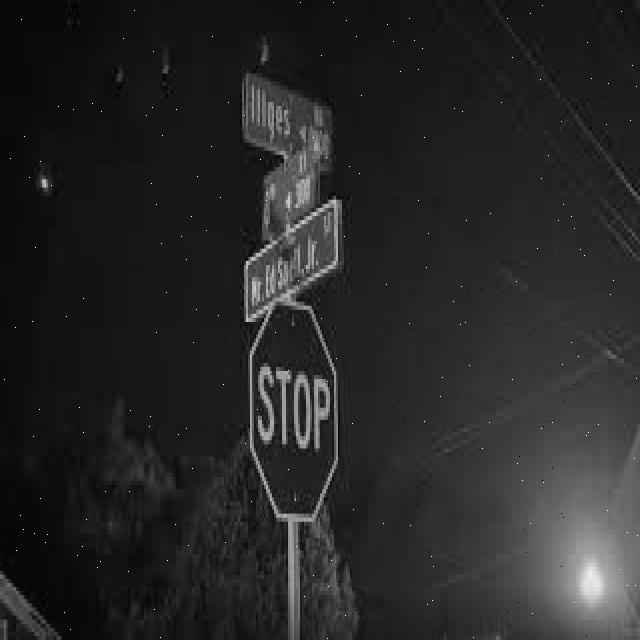stop sign: (250, 300, 337, 524)
